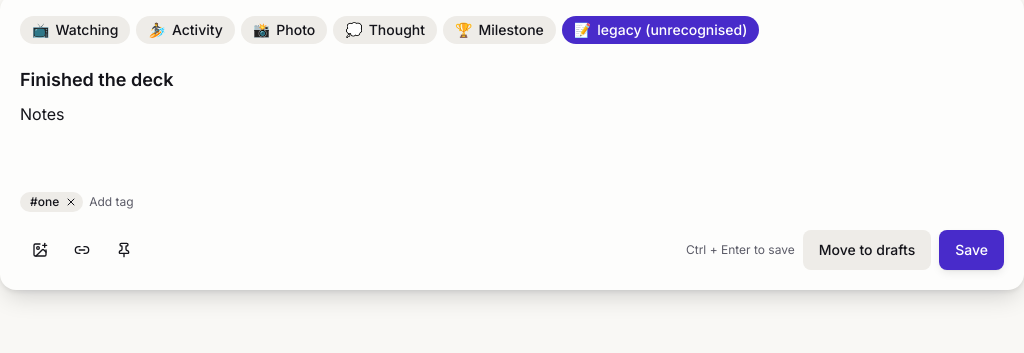
Test case: UpdateComposer — hydration › shows a category outside the list, flagged, and refuses to save it
The image size is (1024, 353).
Click the button "Save": click(972, 250) [939,230,1004,270]
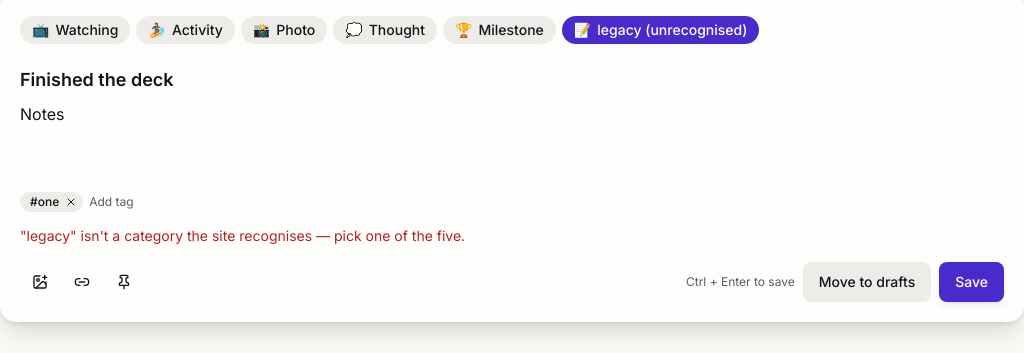
Result: the message shows "legacy" at [20,227,465,244]
